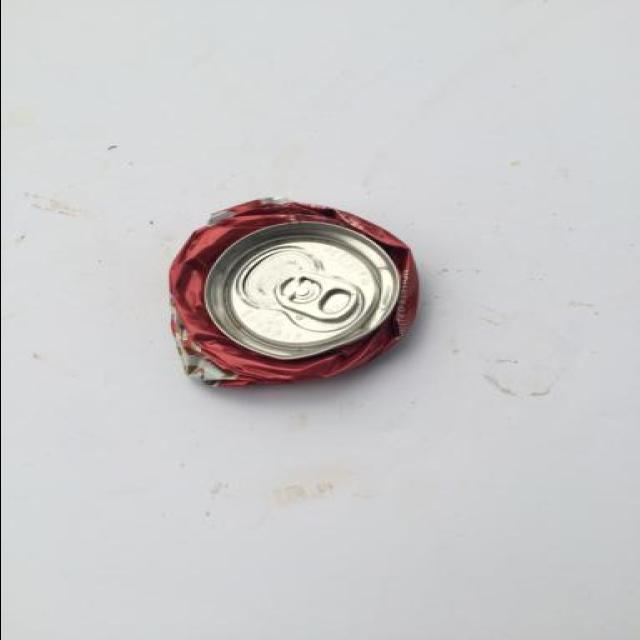Aluminum Can: (124, 175, 428, 433)
